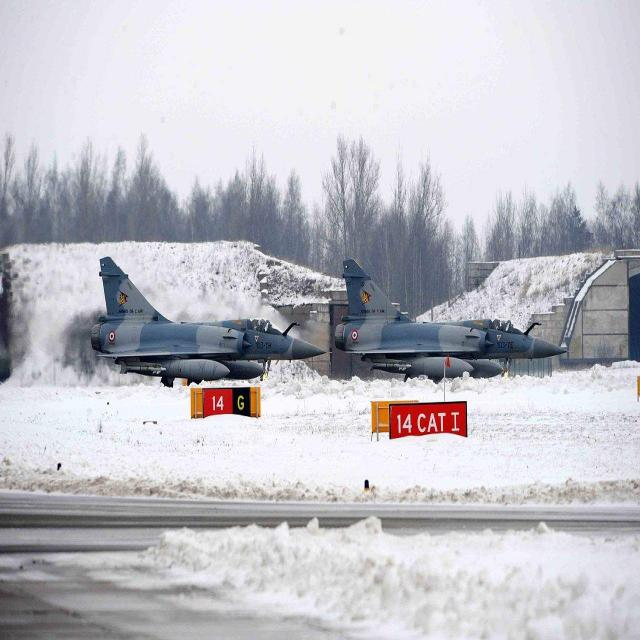MIL_Plane: (91, 256, 333, 388), (334, 258, 574, 384)
